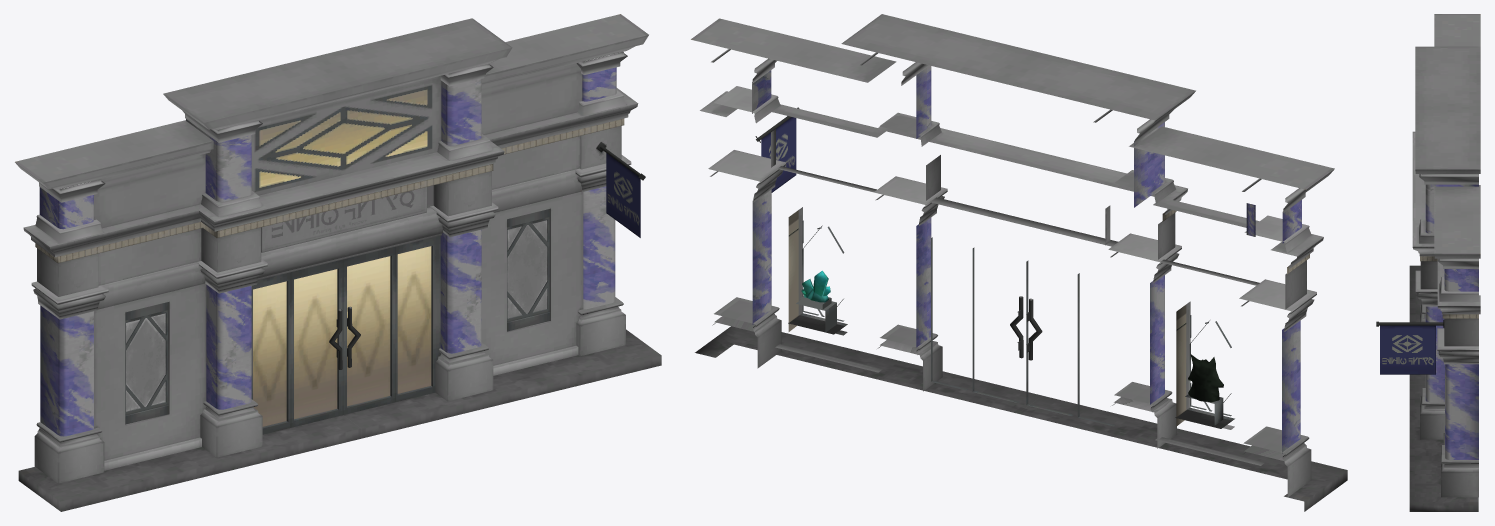
The model's file is t1_b_stone_shop.glb.
The picture shows the model from 3 angles, left to right: view 1: azimuth 30°, elevation 25°; view 2: azimuth 150°, elevation 25°; view 3: azimuth 270°, elevation 25°; orthographic projection. The views are drawn at different scales.
Parts seen in each view (by area): view 1: nomerge_body, um_t1_b_stone_shop_a_model_t1_b_stone_shop_a_modelShape; view 2: nomerge_body; view 3: nomerge_body.
Part boxes in pixels (<box>): nomerge_body: <box>15,14,661,511</box>; um_t1_b_stone_shop_a_model_t1_b_stone_shop_a_modelShape: <box>126,220,547,411</box>; nomerge_body: <box>691,14,1347,511</box>; nomerge_body: <box>1376,14,1480,511</box>.
Size of the model in its own units: 9.54 by 5.28 by 1.75.
Materials: 2 (2 with a texture image).
